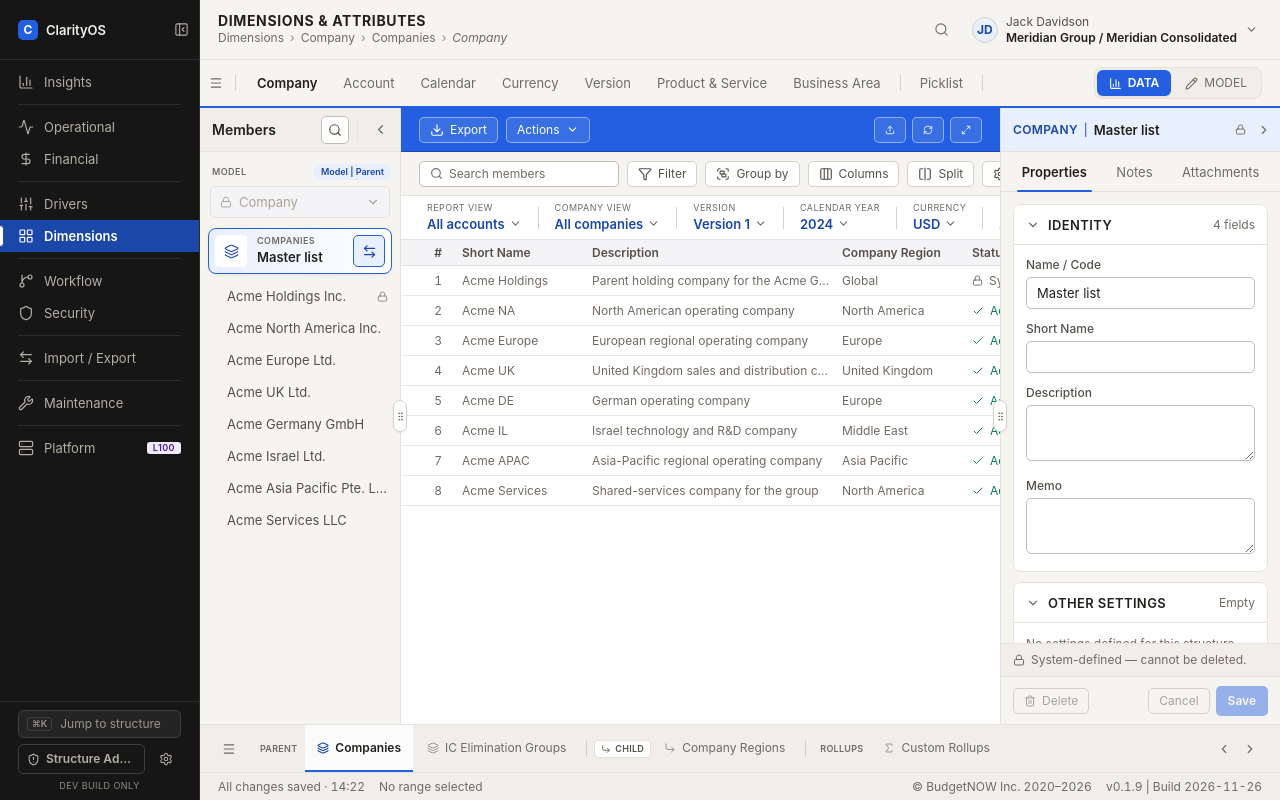
company settings › a member has no way in
Click the button "JD Jack Davidson Meridian Group / Meridian Consolidated" at (1115, 30), box [968, 12, 1262, 48]
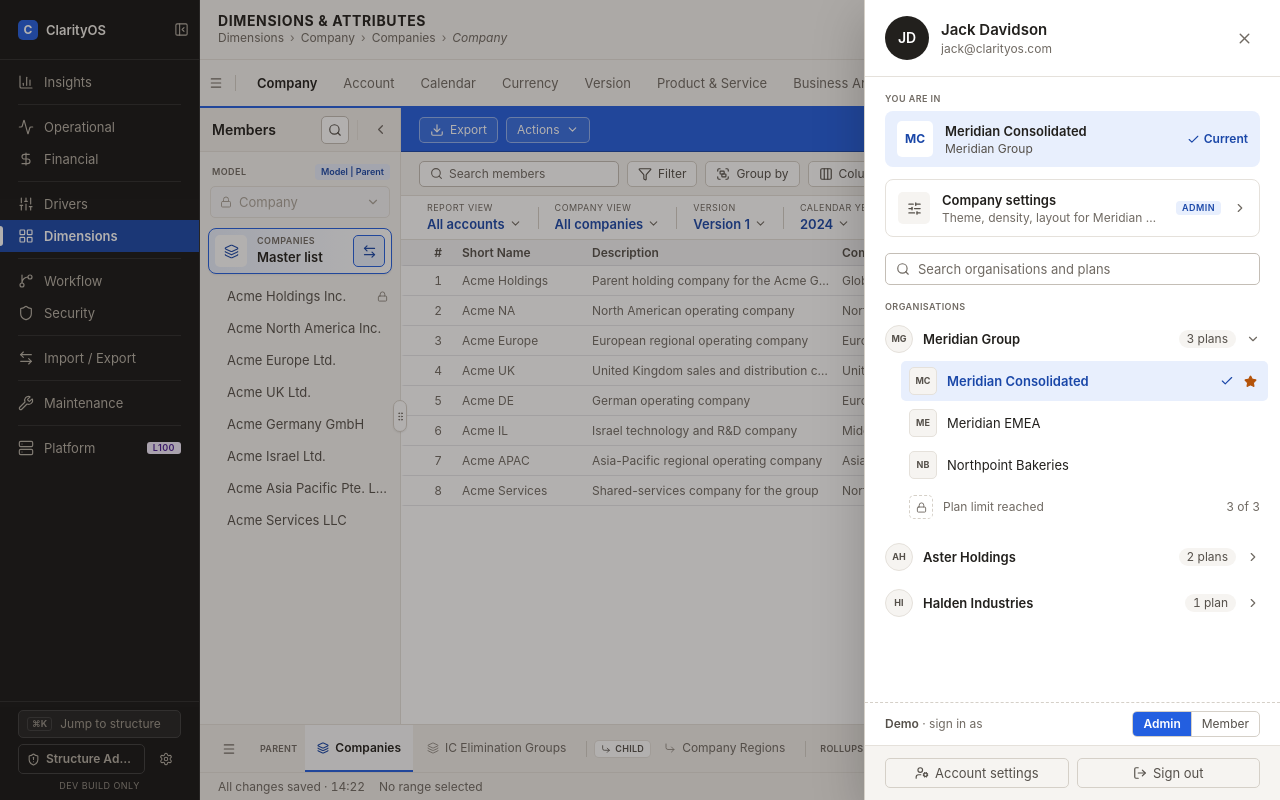
Click the radio button labelled "Member" at (1225, 724), box [1191, 712, 1259, 736]
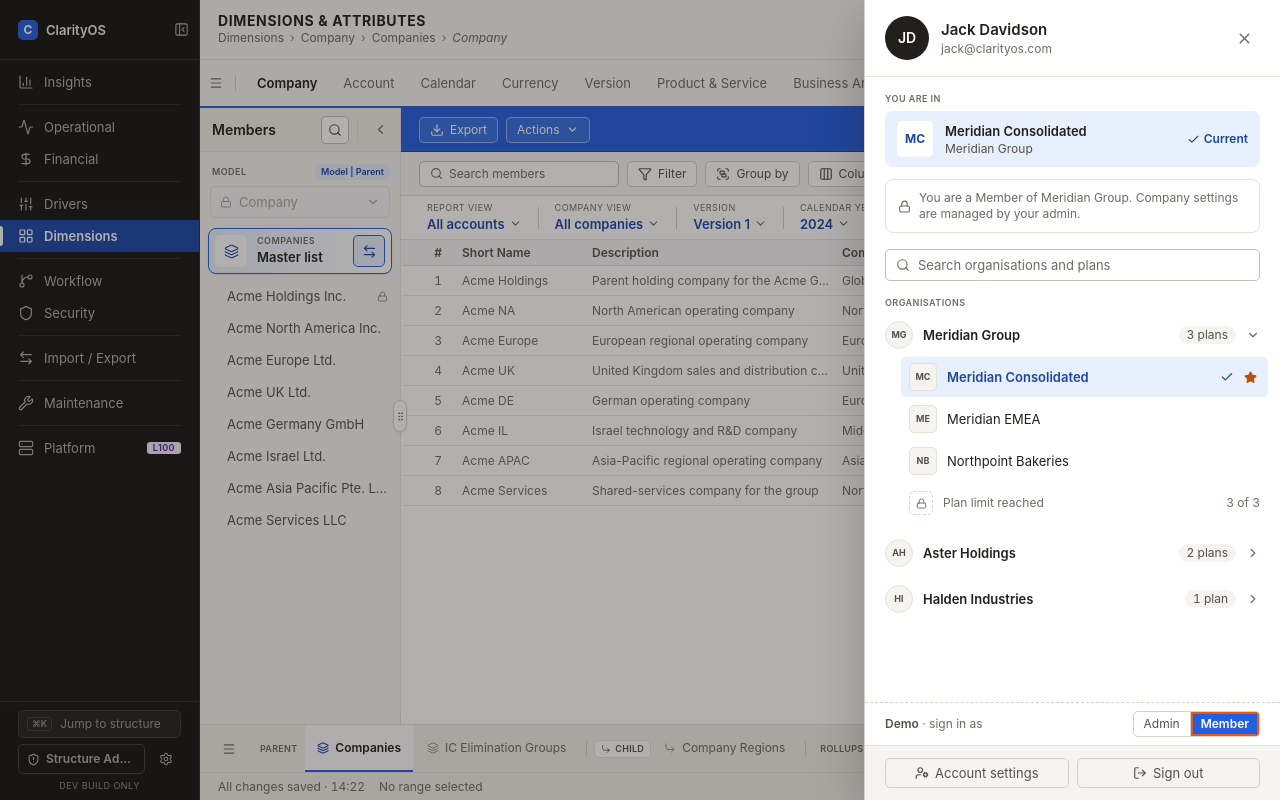
Check: the text "Company settings are managed by your admin" is shown, box [919, 190, 1238, 221]
